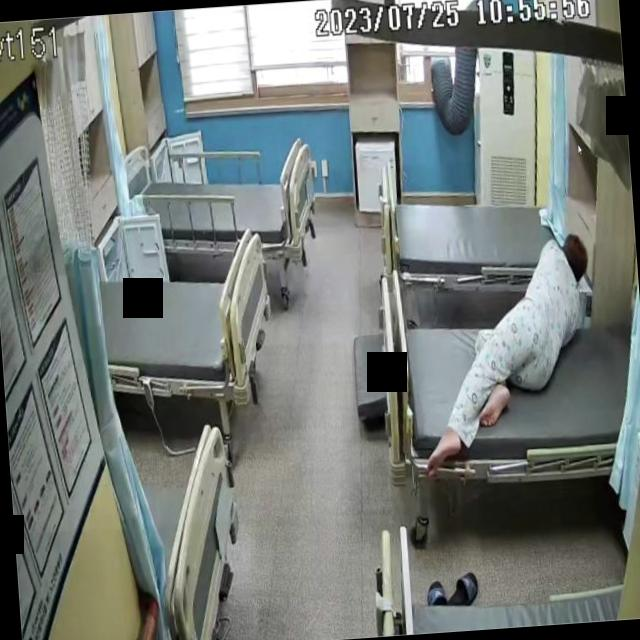bed: (397, 305, 640, 495), (96, 226, 280, 415), (123, 134, 316, 268), (379, 166, 568, 300)
danger: (411, 231, 602, 481)
patient: (409, 232, 602, 480)
